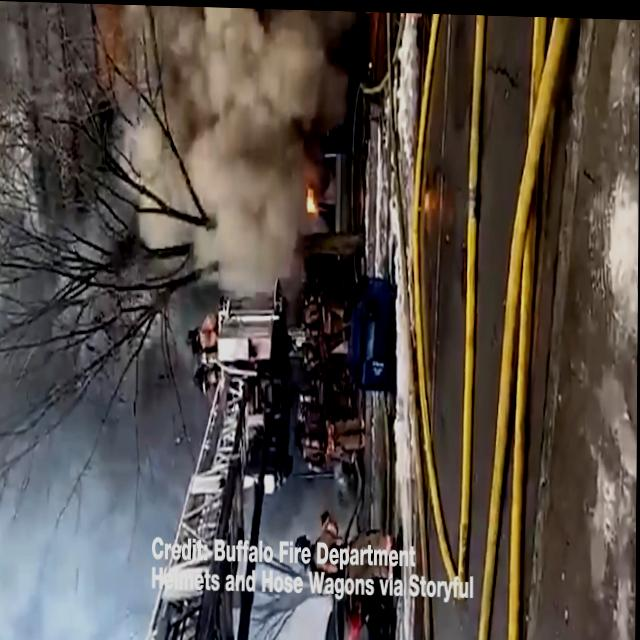Smoke: (123, 3, 353, 273)
